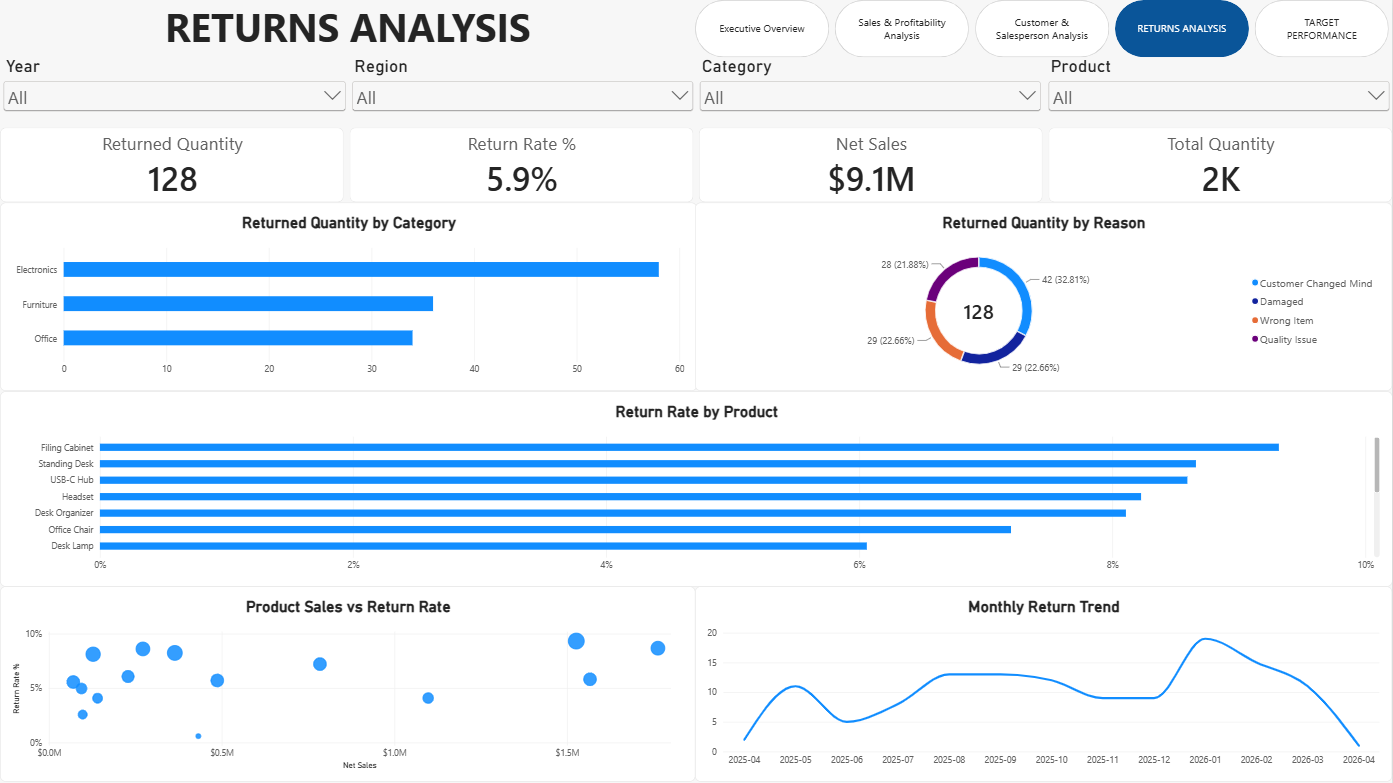

The dashboard page shown, as its layout file describes it:
{"tool":"powerbi","page":{"name":"RETURNS ANALYSIS","canvas":[1920,1080],"ordinal":3},"visuals":[{"type":"textbox","box":[0,0,959.2,77.5],"z":0},{"type":"slicer","fields":{"Values":["DimDate.Year"]},"box":[0,77.9,481.6,97.9],"z":1000},{"type":"slicer","fields":{"Values":["DimRegion.Region"]},"box":[481.6,77.9,480,97.4],"z":2000},{"type":"slicer","fields":{"Values":["DimProduct.Category"]},"box":[961.2,77.9,480,97.4],"z":3000},{"type":"slicer","fields":{"Values":["DimProduct.ProductName"]},"box":[1440.8,77.9,480,97.4],"z":4000},{"type":"cardVisual","fields":{"Data":["Measures_table.Returned Quantity","Measures_table.Return Rate %","Measures_table.Net Sales","Measures_table.Total Quantity"]},"box":[0,175.9,1920.1,103.2],"z":5000},{"type":"clusteredBarChart","title":"Returned Quantity by Category","fields":{"Category":["DimProduct.Category"],"Y":["Measures_table.Returned Quantity"]},"box":[0,279.8,961.2,259.8],"z":6000},{"type":"barChart","title":"Return Rate by Product","fields":{"Category":["DimProduct.ProductName"],"Y":["Measures_table.Return Rate %"]},"box":[0,539.6,1920.4,269.8],"z":7000},{"type":"donutChart","title":"Returned Quantity by Reason","fields":{"Category":["FactReturns.ReturnReason"],"Y":["Measures_table.Returned Quantity"]},"box":[959.2,279.8,961.2,259.8],"z":8000},{"type":"scatterChart","title":"Product Sales vs Return Rate","fields":{"X":["Measures_table.Net Sales"],"Y":["Measures_table.Return Rate %"],"Category":["DimProduct.ProductName"],"Size":["Measures_table.Returned Quantity"]},"box":[0,809.3,959.2,269.8],"z":9000},{"type":"lineChart","title":"Monthly Return Trend","fields":{"Category":["DimDate.Year Month"],"Y":["Measures_table.Returned Quantity"]},"box":[959.2,809.3,961.2,269.8],"z":10000},{"type":"pageNavigator","box":[958.8,0,961.2,79.4],"z":11000}]}

Visuals, with their boxes in screenshot pixels (x1, y1, x2, y2), scaled from the page's 1920x1080 canvas onto the 1393x783 screenshot:
textbox: bbox=(0, 0, 696, 56)
slicer - DimDate.Year: bbox=(0, 56, 349, 127)
slicer - DimRegion.Region: bbox=(349, 56, 698, 127)
slicer - DimProduct.Category: bbox=(697, 56, 1046, 127)
slicer - DimProduct.ProductName: bbox=(1045, 56, 1392, 127)
cardVisual - Measures_table.Returned Quantity x Measures_table.Return Rate %: bbox=(0, 128, 1392, 202)
"Returned Quantity by Category" clusteredBarChart: bbox=(0, 203, 697, 391)
"Return Rate by Product" barChart: bbox=(0, 391, 1392, 587)
"Returned Quantity by Reason" donutChart: bbox=(696, 203, 1392, 391)
"Product Sales vs Return Rate" scatterChart: bbox=(0, 587, 696, 782)
"Monthly Return Trend" lineChart: bbox=(696, 587, 1392, 782)
pageNavigator: bbox=(696, 0, 1392, 58)
